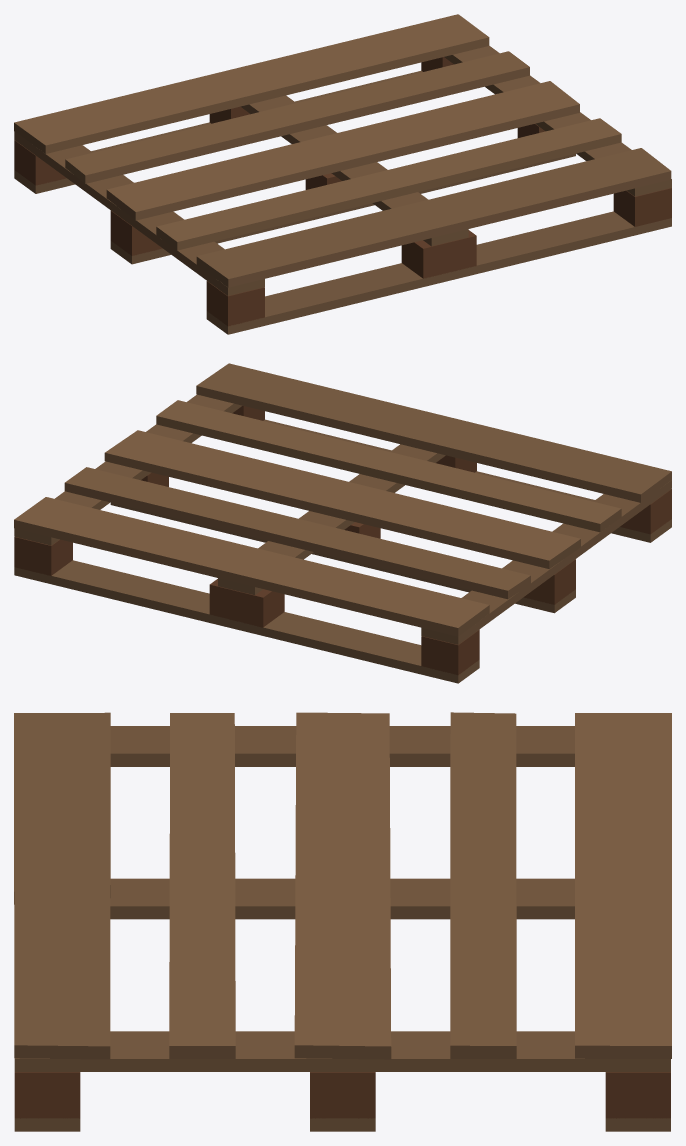
File: tl_furn_pallet_v01.glb
3 renders of one model, top to bottom at view 1: azimuth 30°, elevation 25°; view 2: azimuth 150°, elevation 25°; view 3: azimuth 270°, elevation 25°, orthographic. The views are drawn at different scales.
Visible parts, largest first — view 1: tl_furn_pallet_v01; view 2: tl_furn_pallet_v01; view 3: tl_furn_pallet_v01.
Part boxes in pixels (x1,y1,x2,y2): tl_furn_pallet_v01: [14, 14, 671, 334]; tl_furn_pallet_v01: [14, 363, 671, 683]; tl_furn_pallet_v01: [14, 712, 671, 1131].
Size of the model in its own units: 1.2 by 0.144 by 1.
